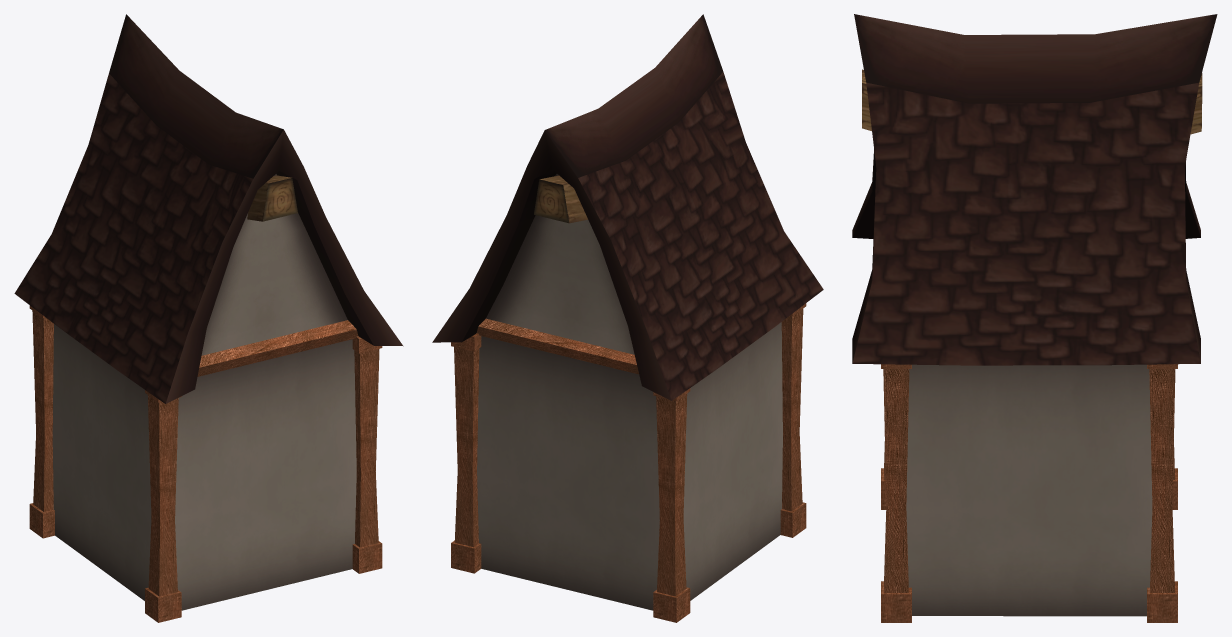
Rendered from fanasty_mod_conjoining_piece_A.fbx.
3 views of the same model, side by side, from view 1: azimuth 30°, elevation 25°; view 2: azimuth 150°, elevation 25°; view 3: azimuth 270°, elevation 25° (orthographic). The views are drawn at different scales.
Visible parts, largest first — view 1: conjoining_piece_A; view 2: conjoining_piece_A; view 3: conjoining_piece_A.
Part boxes in pixels (x1,y1,x2,y2): conjoining_piece_A: (14,14,403,622); conjoining_piece_A: (432,14,823,622); conjoining_piece_A: (852,14,1217,622).
Bounding box in the file's own units: 3.85 × 7.33 × 4.43.
